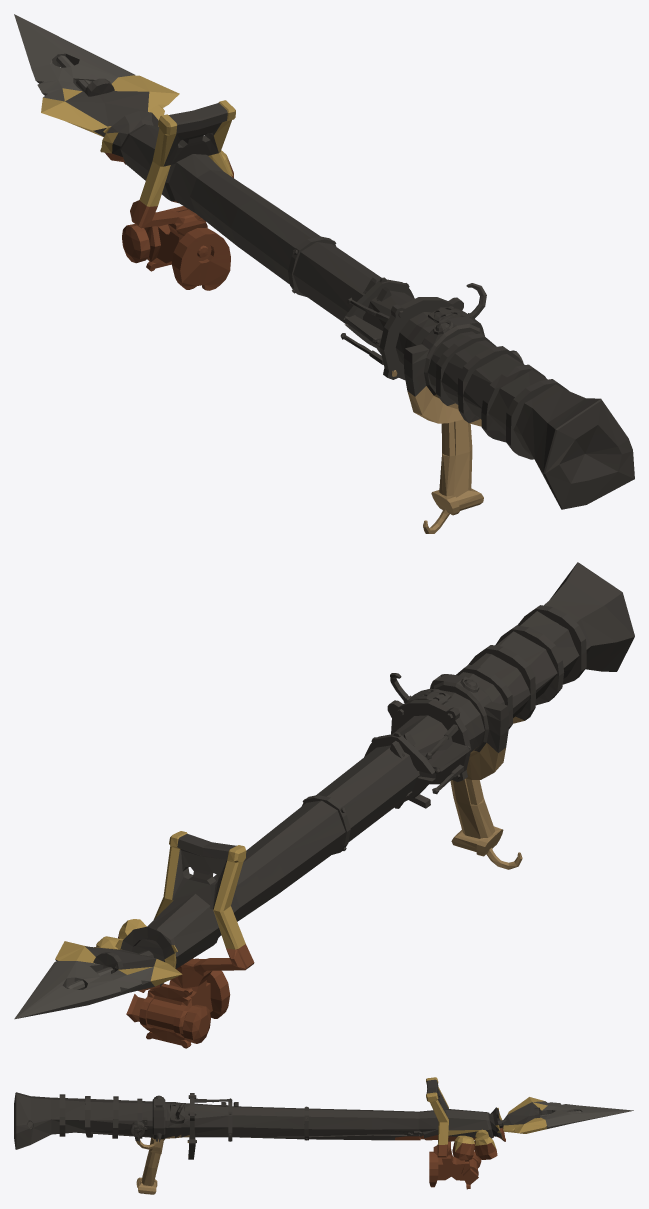
The model's file is lance_tripo.glb.
The picture shows the model from 3 angles, top to bottom: view 1: azimuth 30°, elevation 25°; view 2: azimuth 150°, elevation 25°; view 3: azimuth 270°, elevation 25°; orthographic projection. The views are drawn at different scales.
Visible parts, largest first — view 1: Lance, LanceHarpoon; view 2: Lance, LanceHarpoon; view 3: Lance, LanceHarpoon.
Boxes of the visible parts, bbox=[...] form: Lance: bbox=[211, 185, 634, 533]; LanceHarpoon: bbox=[14, 14, 245, 290]; Lance: bbox=[243, 562, 634, 908]; LanceHarpoon: bbox=[14, 831, 262, 1048]; Lance: bbox=[14, 1092, 394, 1194]; LanceHarpoon: bbox=[395, 1077, 633, 1189].
Size of the model in its own units: 0.1632 by 0.2637 by 1.27.
